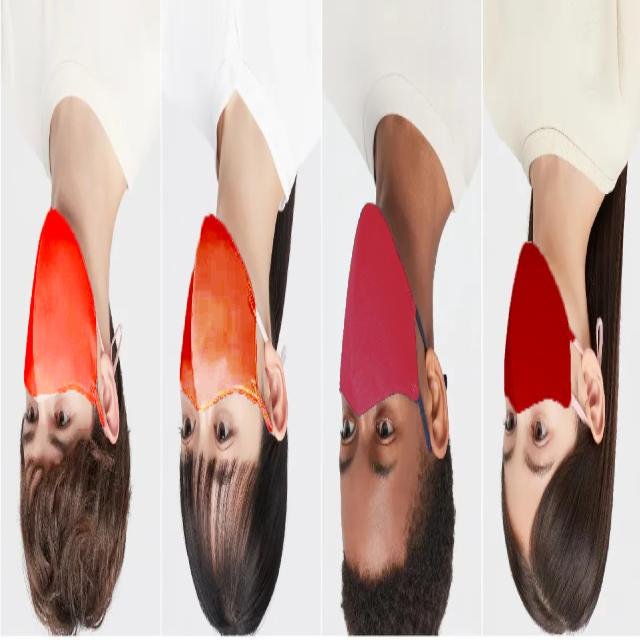Mask: (330, 188, 432, 430), (21, 188, 110, 444), (177, 195, 268, 430), (499, 211, 592, 430)
